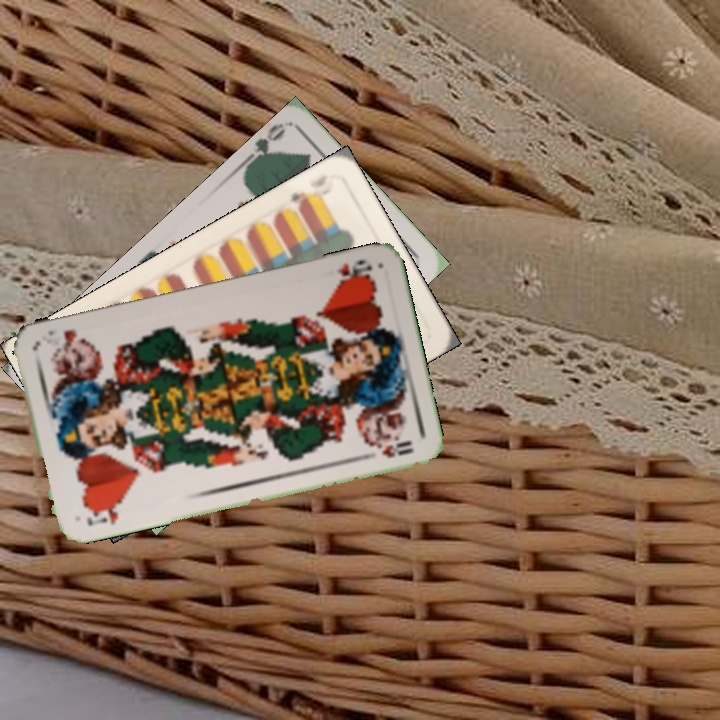E10: (286, 184, 319, 212)
GO: (240, 120, 288, 168)
HO: (331, 255, 375, 287), (83, 498, 125, 529)
